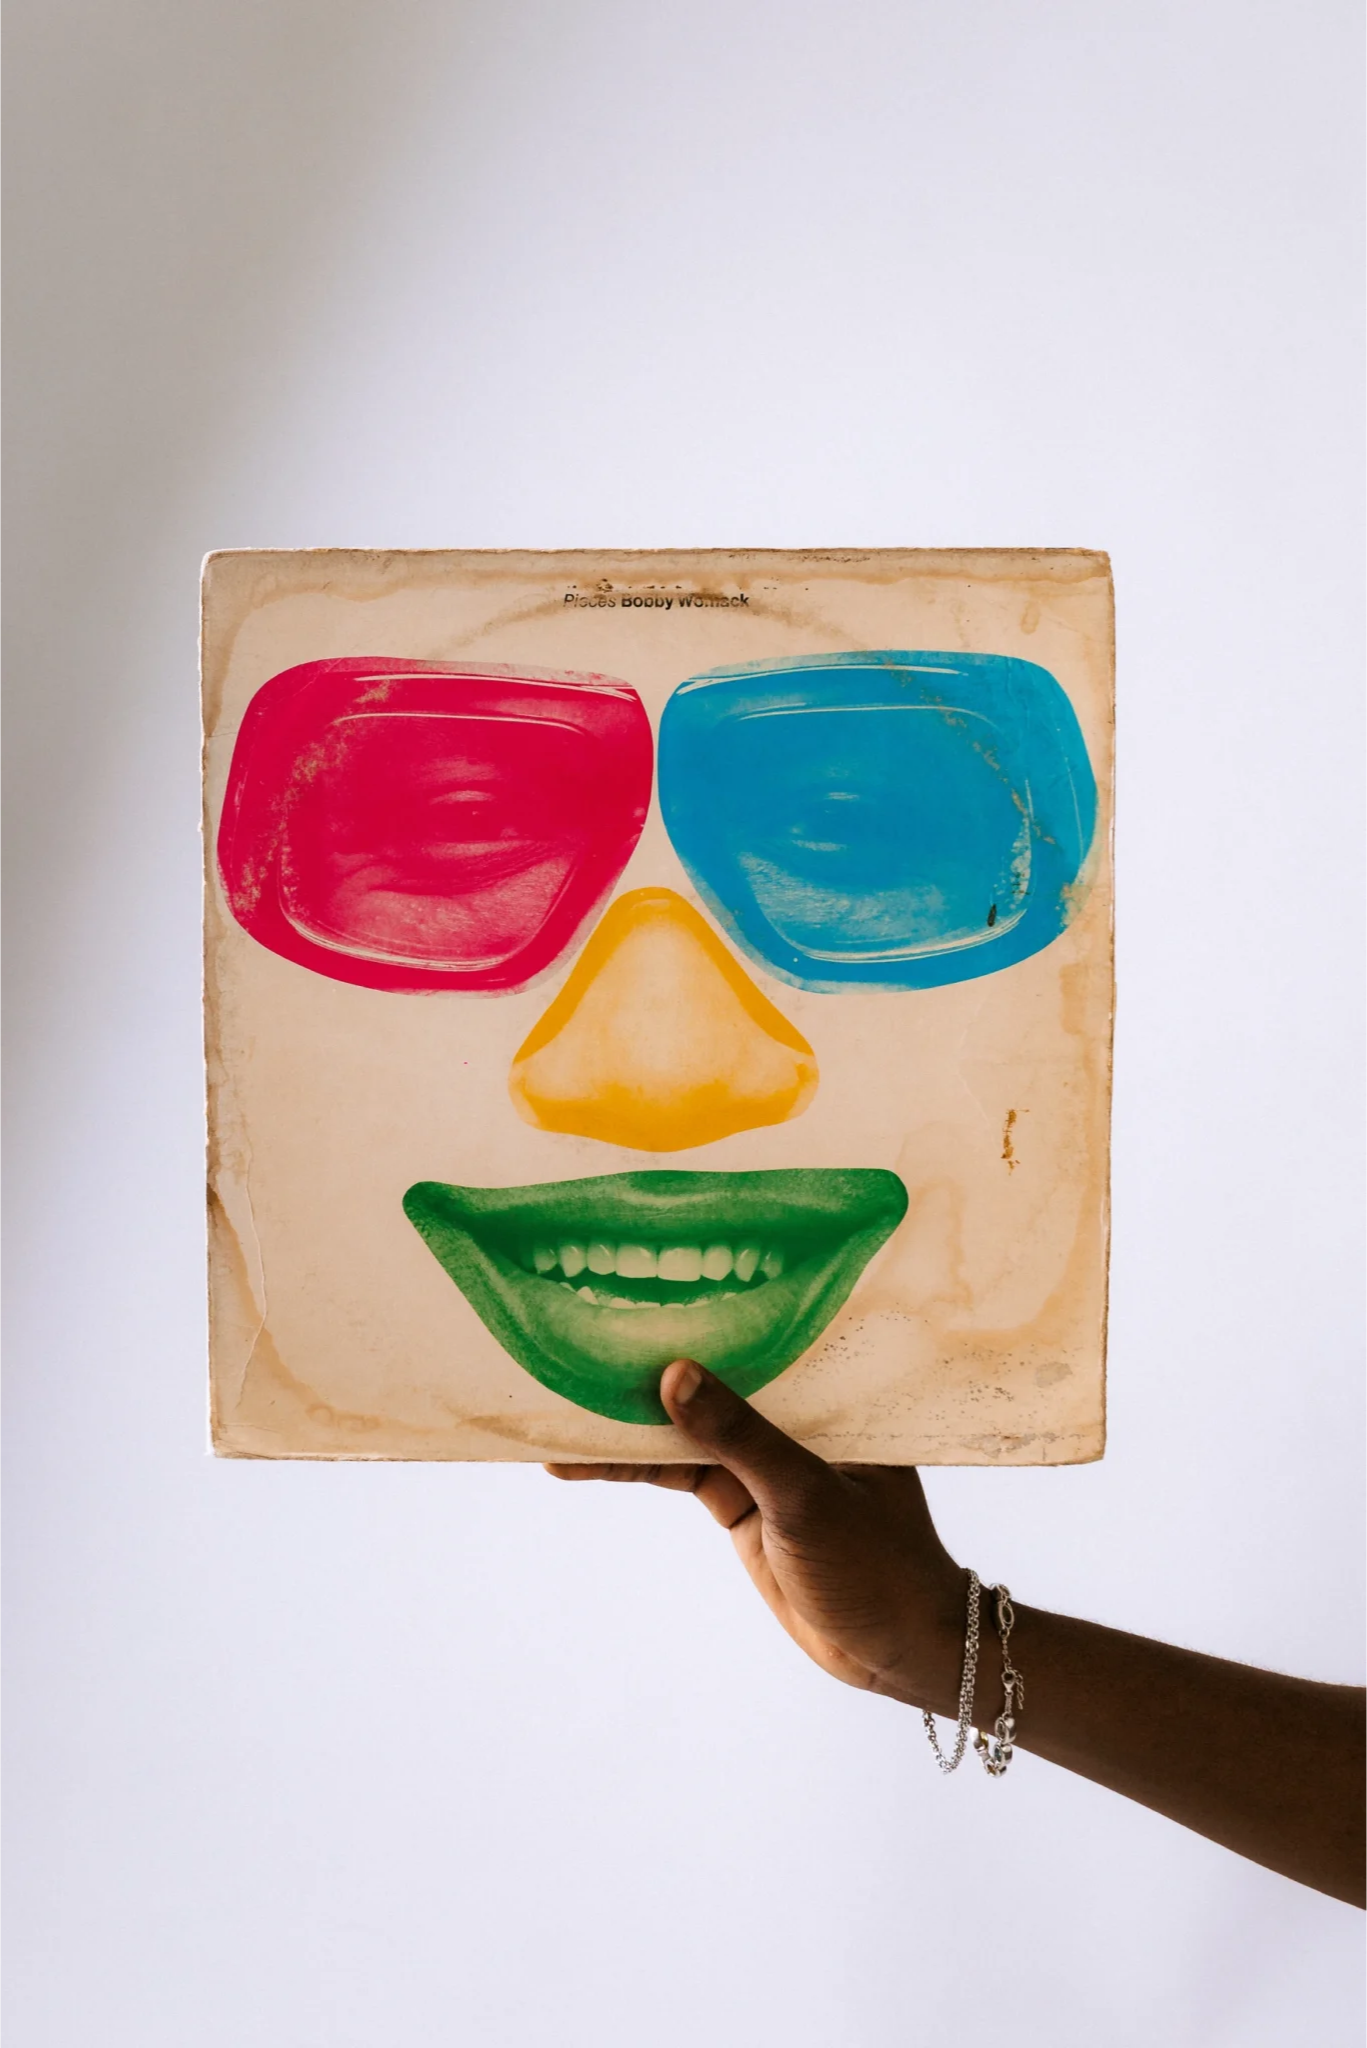bobby womack_pieces: (185, 541, 1118, 1472)
